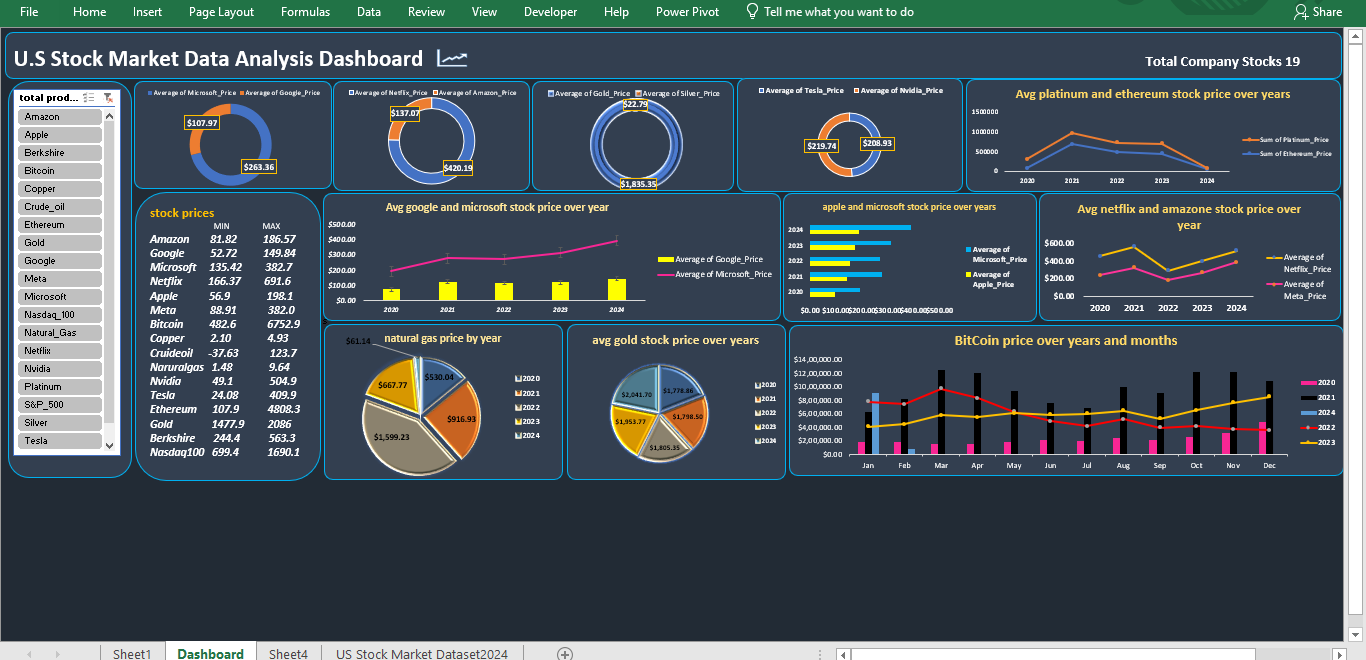

What the dashboard file says about the page in this screenshot:
{"tool":"powerbi","page":{"name":"Page 1","canvas":[1780,824],"ordinal":0},"visuals":[{"type":"donutChart","fields":{"Y":["Avg(US Stock Market Dataset20-24.Amazon_Price)","Avg(US Stock Market Dataset20-24.Netflix_Price)"]},"box":[526,113.3,298.3,151.7],"z":0},{"type":"donutChart","fields":{"Y":["Avg(US Stock Market Dataset20-24.Google_Price)","Avg(US Stock Market Dataset20-24.Microsoft_Price)"]},"box":[256.7,113.3,268.3,151.7],"z":1000},{"type":"areaChart","fields":{"Category":["US Stock Market Dataset20-24.Date.Variation.Date Hierarchy.Year"],"Y":["Min(US Stock Market Dataset20-24.Microsoft_Price)","Min(US Stock Market Dataset20-24.Google_Price)"]},"box":[1066.7,578.3,713.3,245],"z":2000},{"type":"areaChart","title":"Max and Min Tesla_stock price by Year","fields":{"Category":["US Stock Market Dataset20-24.Date.Variation.Date Hierarchy.Year"],"Y":["Max(US Stock Market Dataset20-24.Tesla_Price)","Min(US Stock Market Dataset20-24.Tesla_Price)"]},"box":[670,268.3,508.3,305],"z":3000},{"type":"textbox","box":[0,0,970,113.3],"z":4000},{"type":"slicer","fields":{"Values":["US Stock Market Dataset20-24.Date.Variation.Date Hierarchy.Year"]},"box":[970,0,795,113.3],"z":5000},{"type":"slicer","fields":{"Values":["US Stock Market Dataset20-24.stocks_name"]},"box":[0,113.3,256.7,698.3],"z":6000},{"type":"donutChart","fields":{"Y":["Avg(US Stock Market Dataset20-24.Meta_Price)","Avg(US Stock Market Dataset20-24.Apple_Price)"]},"box":[828.3,113.3,285,151.7],"z":7000},{"type":"donutChart","fields":{"Y":["Avg(US Stock Market Dataset20-24.Gold_Price)","Avg(US Stock Market Dataset20-24.Silver_Price)"]},"box":[1424.3,112.9,341.4,152.9],"z":8000},{"type":"donutChart","fields":{"Y":["Avg(US Stock Market Dataset20-24.Platinum_Price)","Avg(US Stock Market Dataset20-24.Ethereum_Price)"]},"box":[1115,113.3,306.7,151.7],"z":9000},{"type":"pieChart","fields":{"Y":["Max(US Stock Market Dataset20-24.Gold_Price)"],"Category":["US Stock Market Dataset20-24.Date.Variation.Date Hierarchy.Year"]},"box":[670,578.3,393.3,245],"z":10000},{"type":"pieChart","fields":{"Y":["Avg(US Stock Market Dataset20-24.Silver_Price)"],"Category":["US Stock Market Dataset20-24.Date.Variation.Date Hierarchy.Year"]},"box":[263.3,578.3,403.3,245],"z":11000},{"type":"barChart","fields":{"Category":["US Stock Market Dataset20-24.Date.Variation.Date Hierarchy.Year"],"Y":["Avg(US Stock Market Dataset20-24.Bitcoin_Price)"]},"box":[263.3,268.3,403.3,305],"z":12000},{"type":"clusteredColumnChart","fields":{"Y":["Max(US Stock Market Dataset20-24.Apple_Price)","Min(US Stock Market Dataset20-24.Apple_Price)1"],"Category":["US Stock Market Dataset20-24.Date.Variation.Date Hierarchy.Year"]},"box":[1181.4,268.6,584.3,304.3],"z":13000}]}

Visuals, with their boxes on the page's 1780x824 design canvas (x1, y1, x2, y2). These are canvas units, not pixel positions in the 1366x660 screenshot, which may show the page scaled, cropped or inside an application window:
donutChart - Avg(US Stock Market Dataset20-24.Amazon_Price) x Avg(US Stock Market Dataset20-24.Netflix_Price): [526,113,824,265]
donutChart - Avg(US Stock Market Dataset20-24.Google_Price) x Avg(US Stock Market Dataset20-24.Microsoft_Price): [257,113,525,265]
areaChart - US Stock Market Dataset20-24.Date.Variation.Date Hierarchy.Year x Min(US Stock Market Dataset20-24.Microsoft_Price): [1067,578,1780,823]
"Max and Min Tesla_stock price by Year" areaChart: [670,268,1178,573]
textbox: [0,0,970,113]
slicer - US Stock Market Dataset20-24.Date.Variation.Date Hierarchy.Year: [970,0,1765,113]
slicer - US Stock Market Dataset20-24.stocks_name: [0,113,257,812]
donutChart - Avg(US Stock Market Dataset20-24.Meta_Price) x Avg(US Stock Market Dataset20-24.Apple_Price): [828,113,1113,265]
donutChart - Avg(US Stock Market Dataset20-24.Gold_Price) x Avg(US Stock Market Dataset20-24.Silver_Price): [1424,113,1766,266]
donutChart - Avg(US Stock Market Dataset20-24.Platinum_Price) x Avg(US Stock Market Dataset20-24.Ethereum_Price): [1115,113,1422,265]
pieChart - Max(US Stock Market Dataset20-24.Gold_Price) x US Stock Market Dataset20-24.Date.Variation.Date Hierarchy.Year: [670,578,1063,823]
pieChart - Avg(US Stock Market Dataset20-24.Silver_Price) x US Stock Market Dataset20-24.Date.Variation.Date Hierarchy.Year: [263,578,667,823]
barChart - US Stock Market Dataset20-24.Date.Variation.Date Hierarchy.Year x Avg(US Stock Market Dataset20-24.Bitcoin_Price): [263,268,667,573]
clusteredColumnChart - Max(US Stock Market Dataset20-24.Apple_Price) x Min(US Stock Market Dataset20-24.Apple_Price)1: [1181,269,1766,573]
